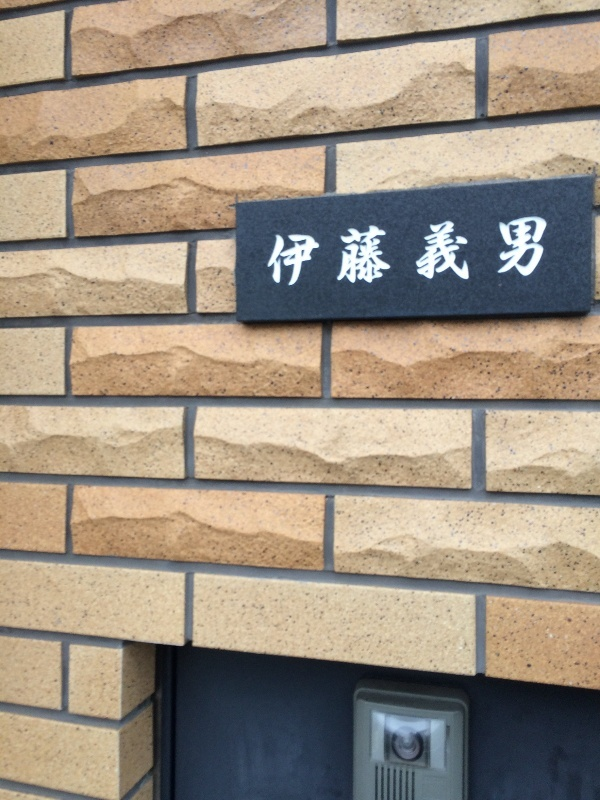text: (273, 217, 288, 287), (289, 217, 304, 287), (305, 217, 320, 287), (321, 217, 336, 287), (337, 217, 352, 287), (353, 217, 368, 287), (369, 217, 384, 287), (385, 217, 400, 287), (401, 217, 416, 287), (417, 217, 432, 287), (433, 217, 448, 287), (449, 217, 464, 287), (465, 217, 480, 287), (481, 217, 496, 287), (497, 217, 512, 287), (513, 217, 528, 287), (529, 217, 544, 287), (268, 217, 272, 287), (545, 217, 547, 287)
